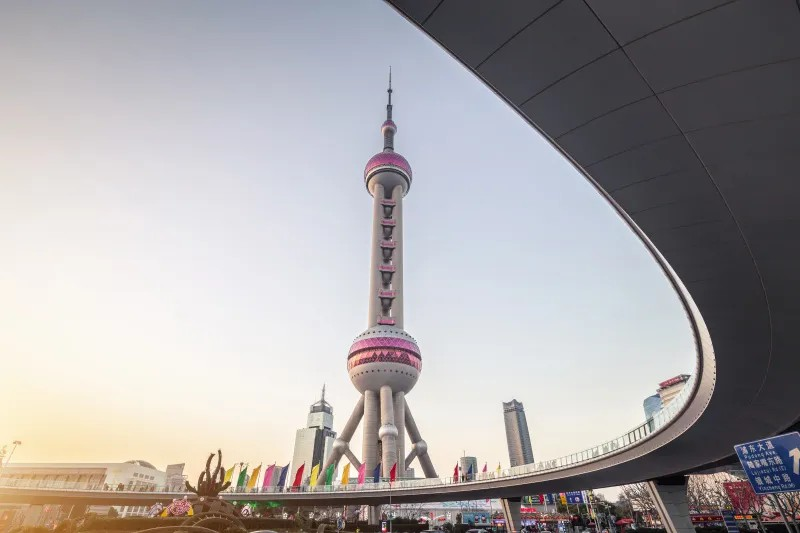Oriental: (316, 66, 439, 482)
